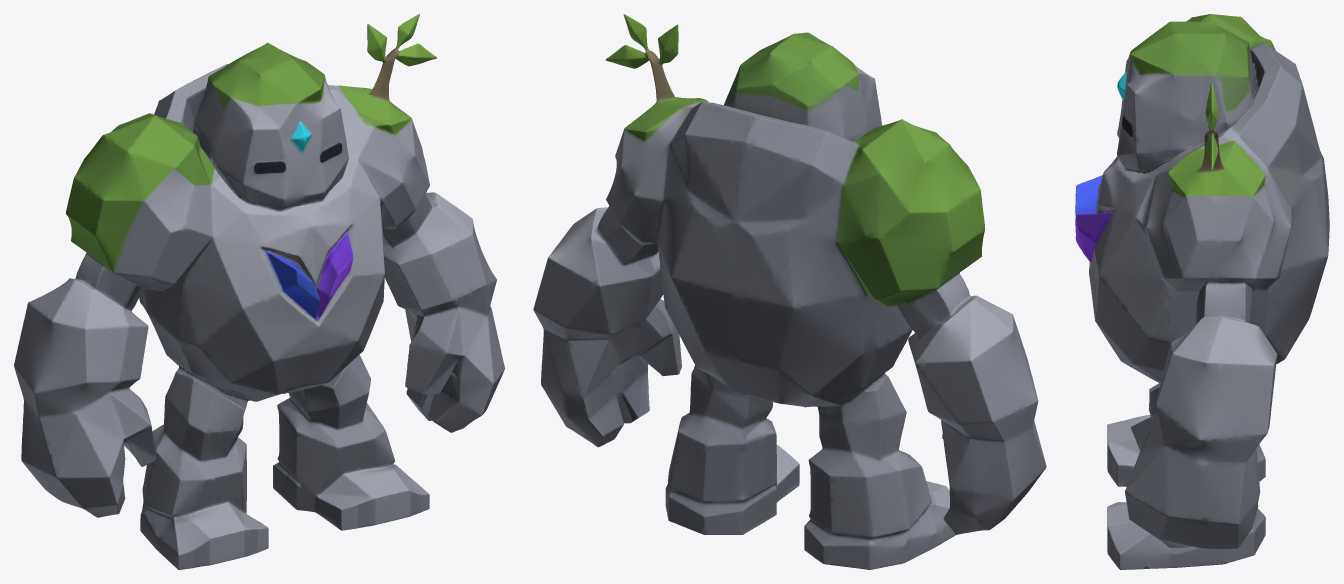
Rendered from golem.glb.
The picture shows the model from 3 angles, left to right: view 1: azimuth 30°, elevation 25°; view 2: azimuth 150°, elevation 25°; view 3: azimuth 270°, elevation 25°; orthographic projection. The views are drawn at different scales.
Size of the model in its own units: 1.9 by 1.8 by 0.8656.
1 material, 1 textured.
